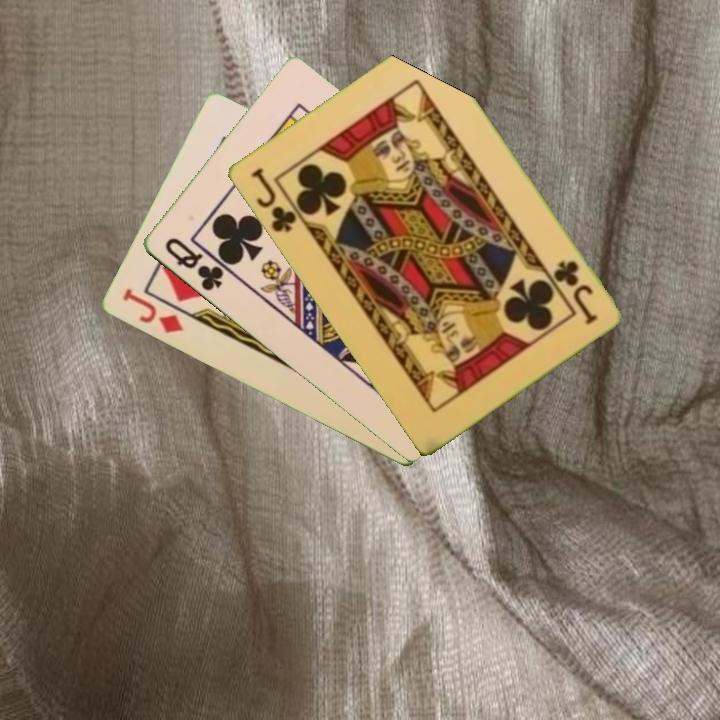Jc: (246, 164, 307, 236), (549, 256, 600, 327)
Jd: (118, 284, 186, 337)
Qc: (160, 234, 226, 294)
